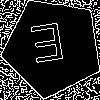E: (27, 22, 68, 73)
